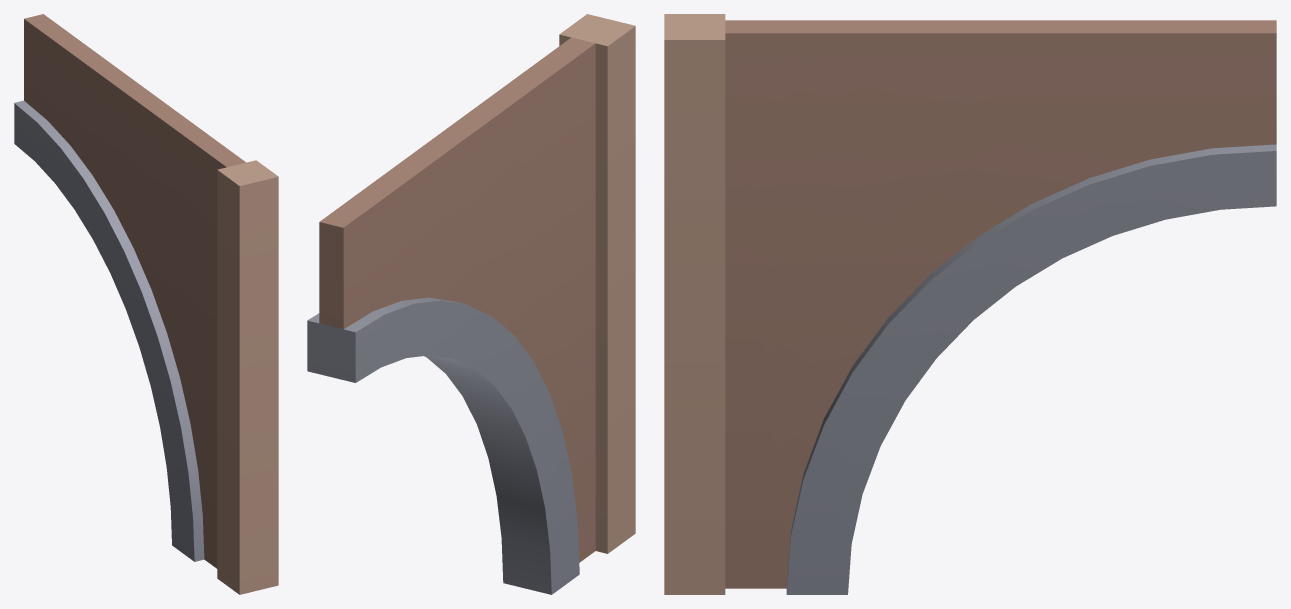
File: wall-wood-arch-top.glb
The picture shows the model from 3 angles, left to right: view 1: azimuth 30°, elevation 25°; view 2: azimuth 150°, elevation 25°; view 3: azimuth 270°, elevation 25°; orthographic projection. The views are drawn at different scales.
Parts seen in each view (by area): view 1: wall-wood-arch-top; view 2: wall-wood-arch-top; view 3: wall-wood-arch-top.
Boxes of the visible parts, left/top/right/bottom form: wall-wood-arch-top: left=14, top=14, right=278, bottom=594; wall-wood-arch-top: left=307, top=14, right=635, bottom=594; wall-wood-arch-top: left=664, top=14, right=1276, bottom=594.
Bounding box in the file's own units: 0.1 × 1 × 1.
